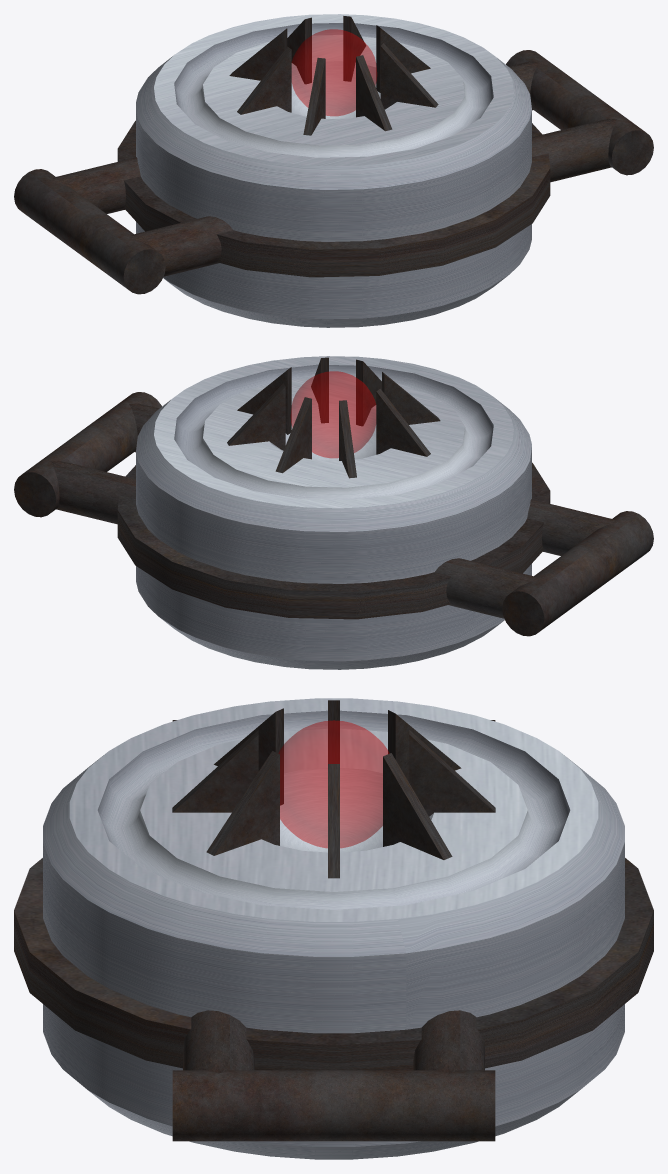
The model's file is Bomber mine.fbx.
3 views of the same model, one above another, from view 1: azimuth 30°, elevation 25°; view 2: azimuth 150°, elevation 25°; view 3: azimuth 270°, elevation 25° (orthographic). The views are drawn at different scales.
Parts seen in each view (by area): view 1: group9; view 2: group9; view 3: group9.
Boxes of the visible parts, bbox=[...] form: group9: bbox=[14, 14, 653, 327]; group9: bbox=[14, 356, 653, 669]; group9: bbox=[14, 698, 653, 1159].
Size of the model in its own units: 11.73 by 5.87 by 8.34.
4 materials, 3 textured.
